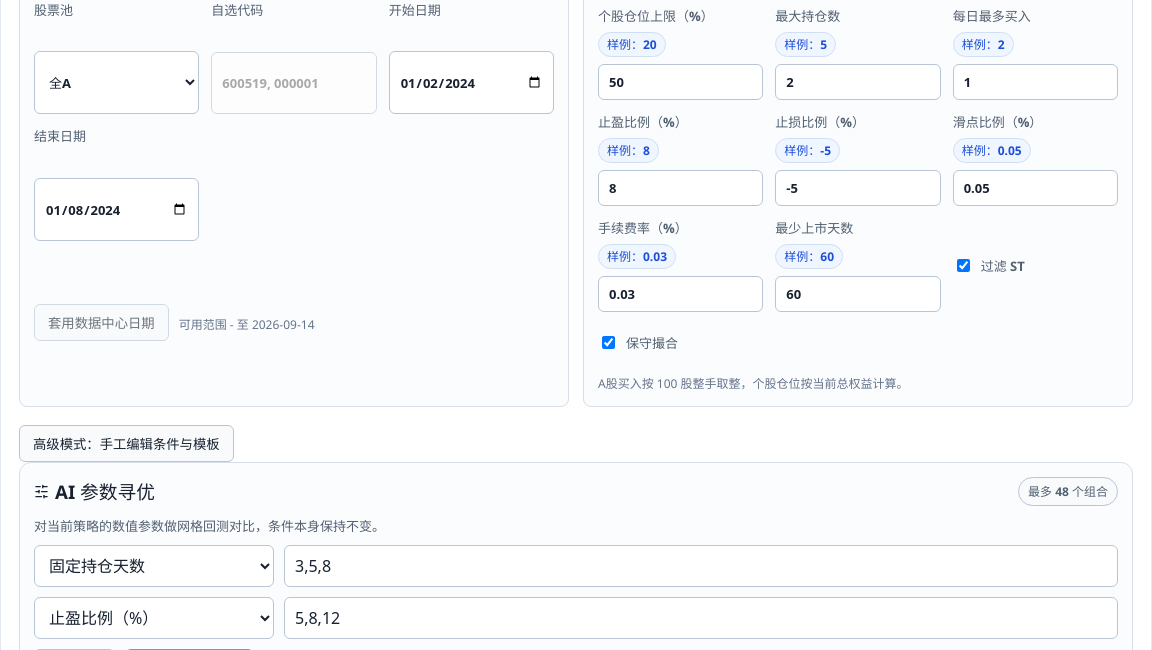
Scenario: disables the AI condition box when AI is not configured but keeps advanced mode usable
(page scrolled)
Click the button "高级模式：手工编辑条件与模板": (126, 444) [19,425,234,462]
(page scrolled)
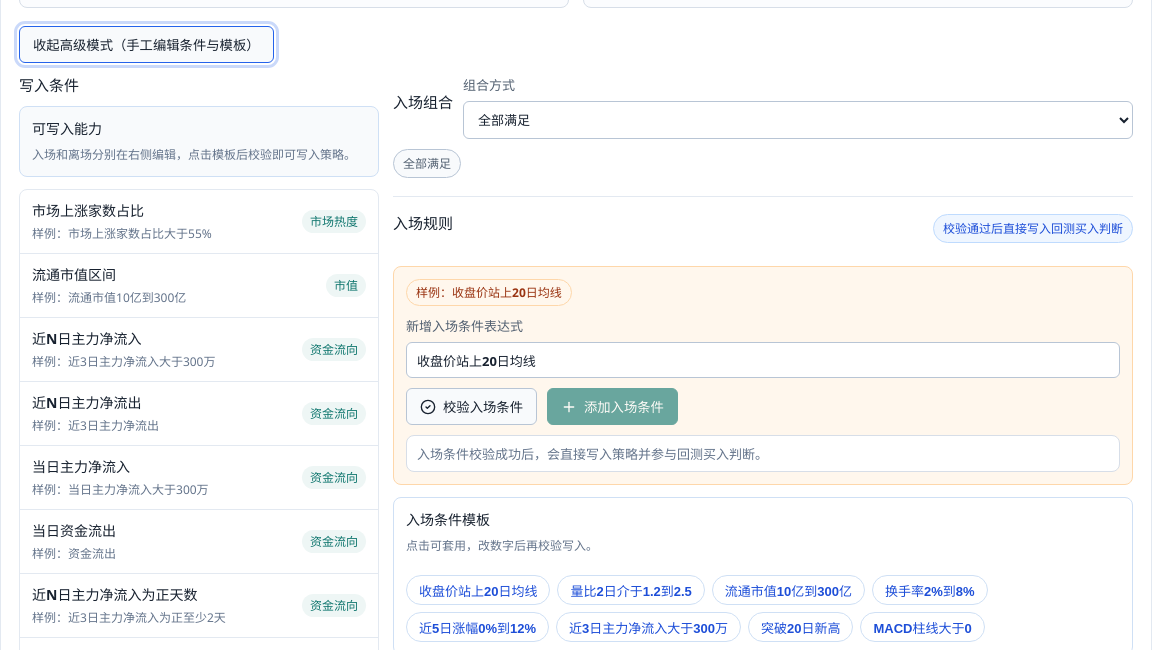
Expected: the field named "新增条件表达式" is enabled, [406,342,1120,378]
